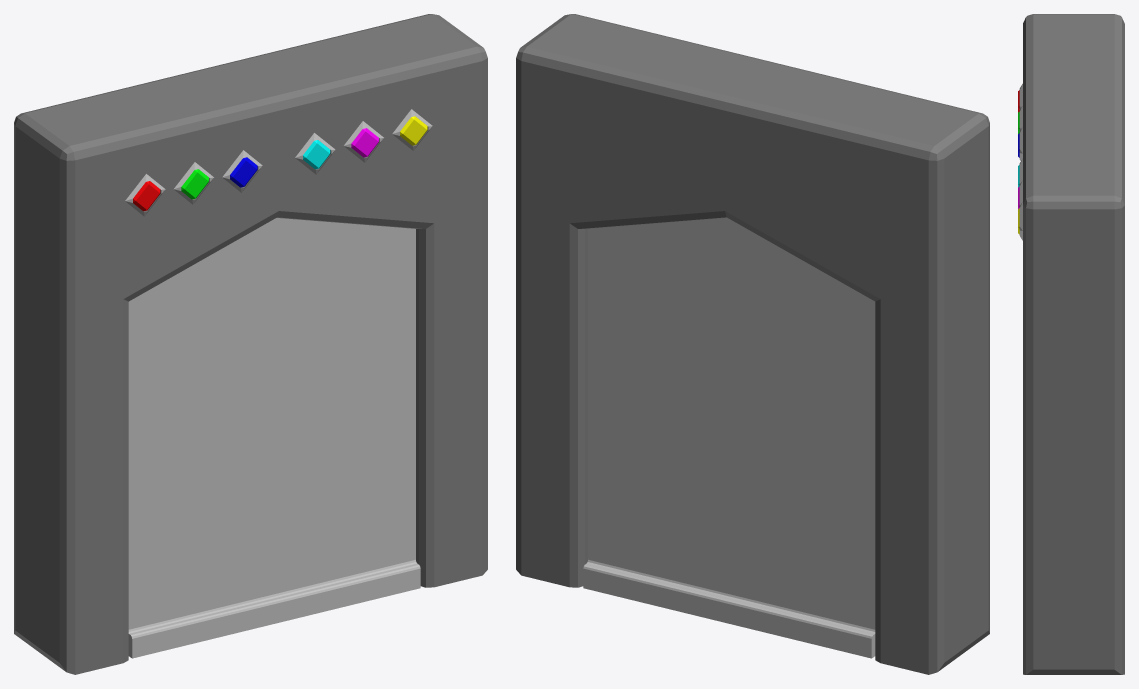
Rendered from Door.fbx.
3 renders of one model, left to right at view 1: azimuth 30°, elevation 25°; view 2: azimuth 150°, elevation 25°; view 3: azimuth 270°, elevation 25°, orthographic. The views are drawn at different scales.
Parts seen in each view (by area): view 1: DoorFrame, Door; view 2: DoorFrame, Door; view 3: DoorFrame.
Boxes of the visible parts, x1=… form: DoorFrame: x1=14, y1=14, x2=487, y2=674; Door: x1=128, y1=218, x2=420, y2=658; DoorFrame: x1=516, y1=14, x2=989, y2=674; Door: x1=583, y1=218, x2=875, y2=658; DoorFrame: x1=1018, y1=14, x2=1124, y2=674.
Size of the model in its own units: 444 by 522 by 105.
